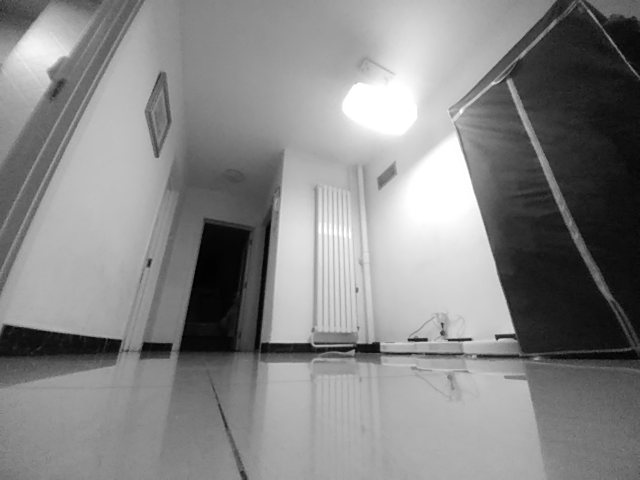others: (316, 345, 357, 360)
